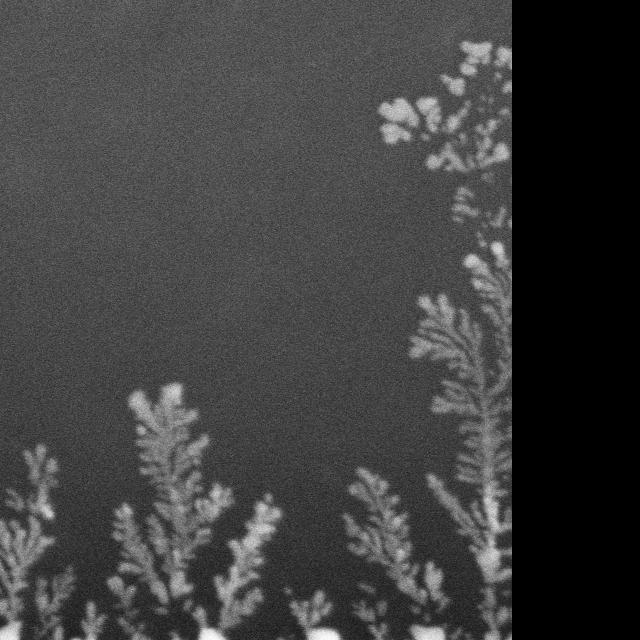Dendrite: (379, 41, 511, 640), (113, 382, 232, 633), (343, 467, 445, 620), (0, 443, 72, 637), (218, 505, 280, 628), (108, 577, 160, 640), (285, 588, 341, 640), (352, 582, 401, 640)
